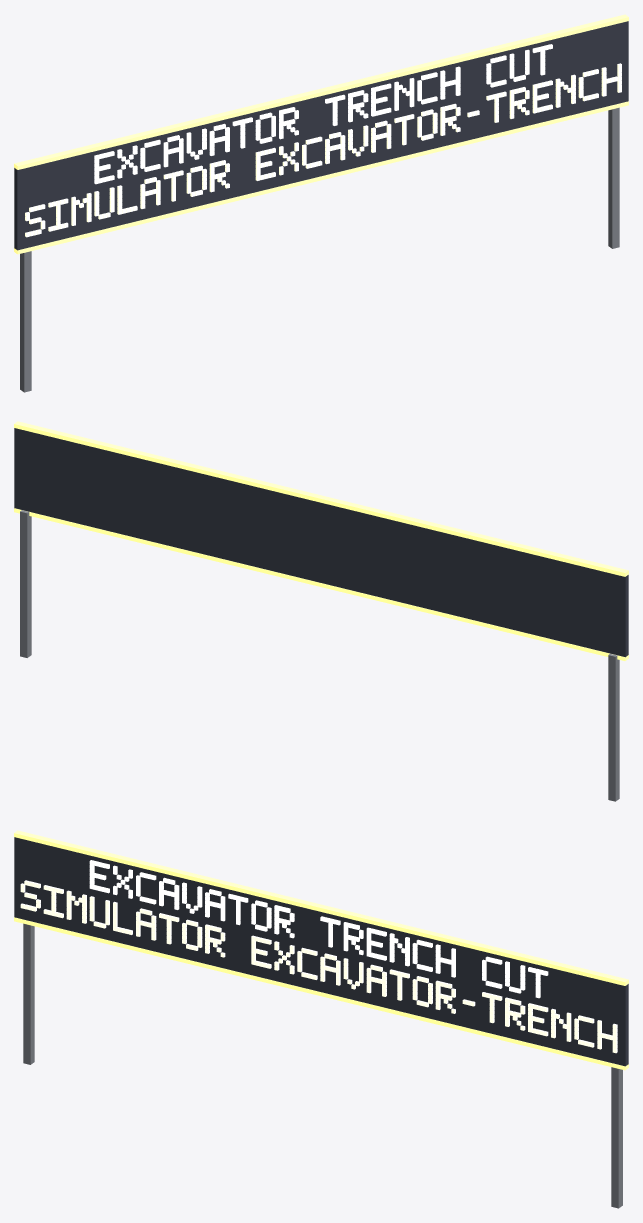
File: wing-sign-excavator-trench.glb
3 views of the same model, one above another, from view 1: azimuth 30°, elevation 25°; view 2: azimuth 150°, elevation 25°; view 3: azimuth 330°, elevation 25° (orthographic).
Visible parts, largest first — view 1: Sign · Excavator Trench Cut; view 2: Sign · Excavator Trench Cut; view 3: Sign · Excavator Trench Cut.
Boxes of the visible parts, <box> form: Sign · Excavator Trench Cut: <box>14,14,628,392</box>; Sign · Excavator Trench Cut: <box>14,421,628,801</box>; Sign · Excavator Trench Cut: <box>14,830,628,1208</box>.
Size of the model in its own units: 13.25 by 4.75 by 0.25.
